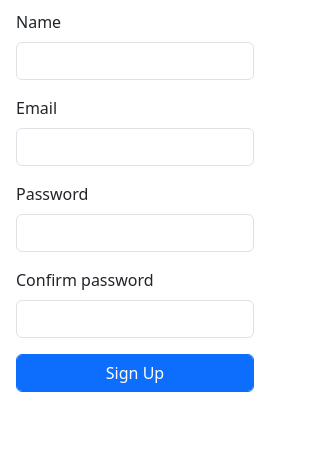
Test: SignupPageComponent › when user interact with name field › should display error message when field contain less than 3 characters
Type "a" into the field with test id "name".
click(135, 61); type("a")  # box [16,42,254,80]
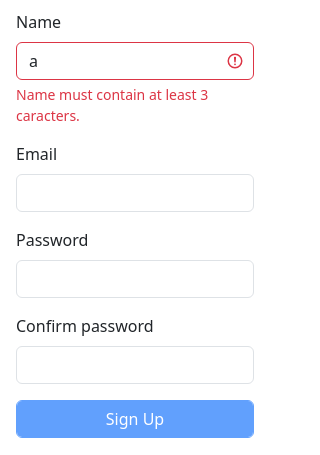
Now the text with test id "error-name-minlength" reads "Name must contain at least 3 caracters.", box [16,85,208,125]
